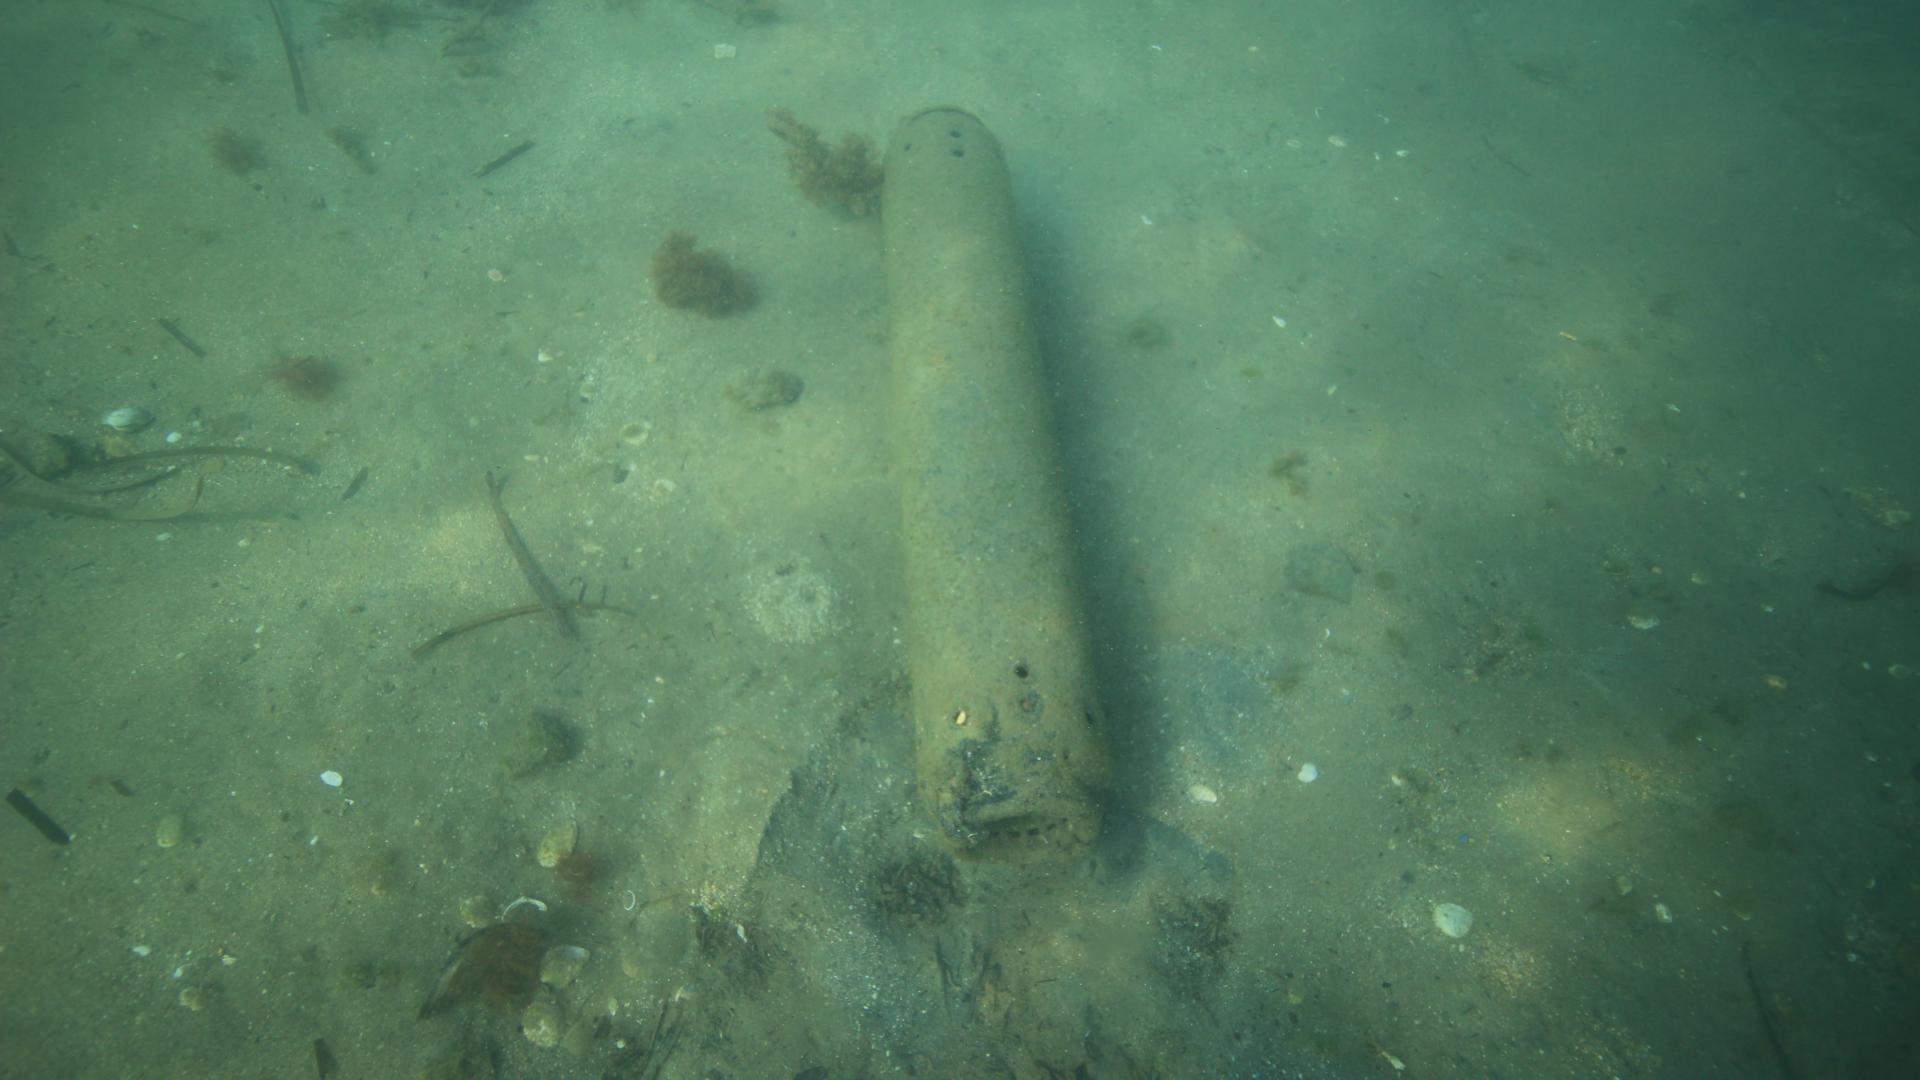eel fish trap: (880, 100, 1124, 858)
